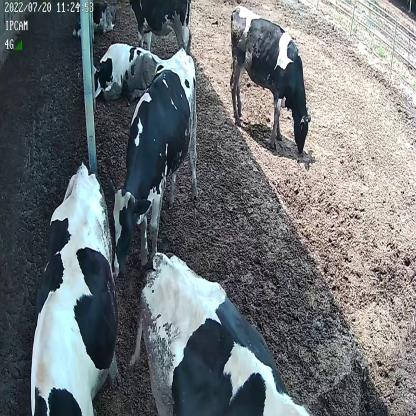cow: (129, 247, 311, 416), (29, 158, 119, 416), (106, 46, 199, 276), (228, 2, 313, 157), (88, 42, 167, 104)
